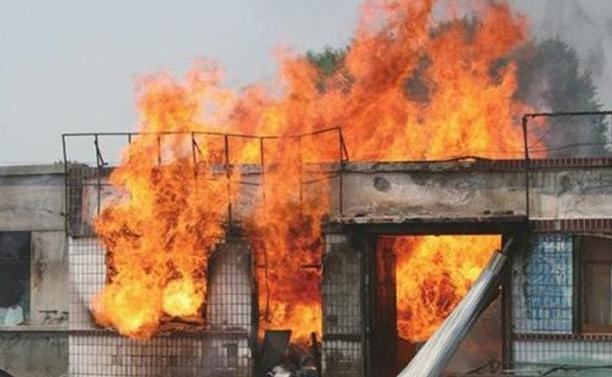fire: (101, 1, 326, 351), (327, 2, 551, 162), (375, 236, 503, 345), (76, 275, 101, 352), (75, 190, 101, 253)
